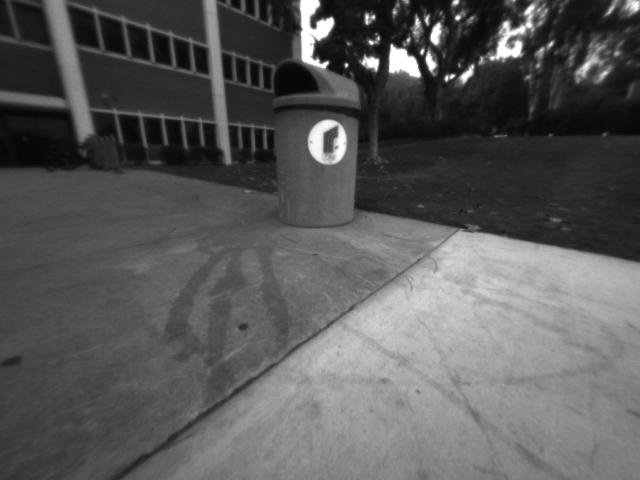trashcan: (266, 56, 364, 228)
